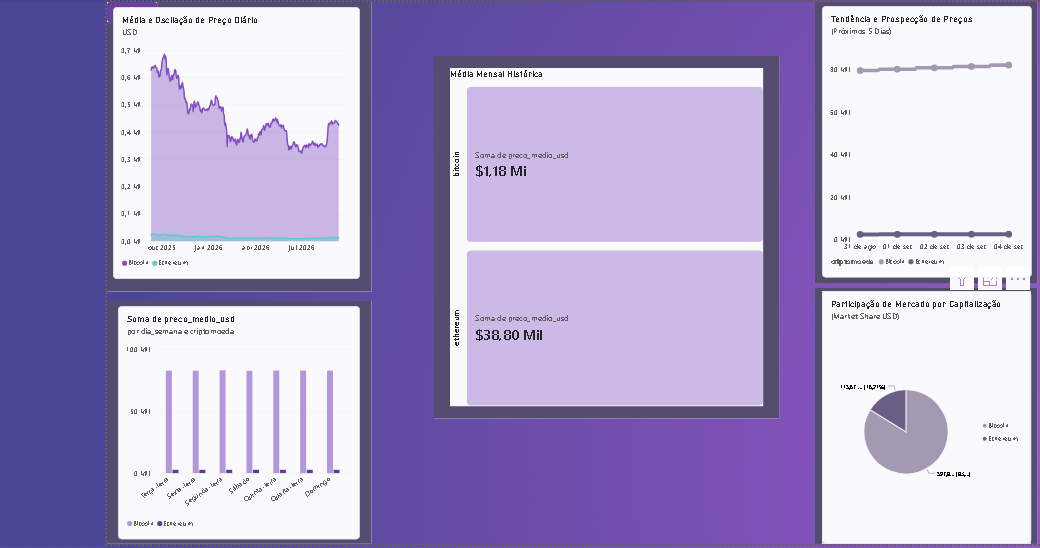

What the dashboard file says about the page in this screenshot:
{"tool":"powerbi","page":{"name":"Página 1","canvas":[1920,1080],"ordinal":0},"visuals":[{"type":"shape","box":[0,0,526.7,576.7],"z":0},{"type":"shape","box":[0,596.7,526.7,483.3],"z":1000},{"type":"shape","box":[1411.7,570,443.3,510],"z":2000},{"type":"shape","box":[1411.7,0,443.3,561.7],"z":3000},{"type":"areaChart","title":"Média e Oscilação de Preço Diário ","fields":{"Category":["public vw_12_meses_com_projecao.data_referencia"],"Series":["public vw_12_meses_com_projecao.criptomoeda"],"Y":["Avg(public vw_12_meses_com_projecao.preco_brl)"]},"box":[16.7,10,491.7,541.7],"z":4000},{"type":"lineClusteredColumnComboChart","fields":{"Category":["public vw_analitica_dia_semana.dia_semana"],"Series":["public vw_analitica_dia_semana.criptomoeda"],"Y":["Sum(public vw_analitica_dia_semana.preco_medio_usd)"]},"box":[21.7,605,481.7,465],"z":5000},{"type":"pieChart","title":"Participação de Mercado por Capitalização","fields":{"Category":["public vw_12_meses_com_projecao.criptomoeda"],"Y":["Sum(public vw_12_meses_com_projecao.market_cap_usd)"]},"box":[1425,576.7,416.7,503.3],"z":6000},{"type":"lineChart","title":"Tendência e Prospecção de Preços ","fields":{"Category":["public vw_projecoes_5_dias.data_projetada"],"Series":["public vw_projecoes_5_dias.criptomoeda"],"Y":["Sum(public vw_projecoes_5_dias.preco_usd)"]},"box":[1425,8.3,418,540.7],"z":7000},{"type":"actionButton","box":[0,0,100,40],"z":8000},{"type":"shape","box":[651.7,106.7,688.3,721.7],"z":9000},{"type":"cardVisual","title":" Média Mensal Histórica ","fields":{"Data":["Sum(public vw_analitica_resumo_mensal.preco_medio_usd)"],"Rows":["public vw_analitica_resumo_mensal.moeda_id"]},"box":[683.3,131.7,624.3,674],"z":10000}]}

Visuals, with their boxes in screenshot pixels (x1, y1, x2, y2):
shape: select_region(106, 0, 369, 288)
shape: select_region(106, 298, 369, 540)
shape: select_region(811, 285, 1032, 540)
shape: select_region(811, 0, 1032, 281)
"Média e Oscilação de Preço Diário " areaChart: select_region(114, 5, 360, 276)
lineClusteredColumnComboChart - public vw_analitica_dia_semana.dia_semana x public vw_analitica_dia_semana.criptomoeda: select_region(116, 302, 357, 535)
"Participação de Mercado por Capitalização" pieChart: select_region(817, 288, 1026, 540)
"Tendência e Prospecção de Preços " lineChart: select_region(817, 4, 1026, 274)
actionButton: select_region(106, 0, 156, 20)
shape: select_region(431, 53, 775, 414)
" Média Mensal Histórica " cardVisual: select_region(447, 66, 759, 402)
